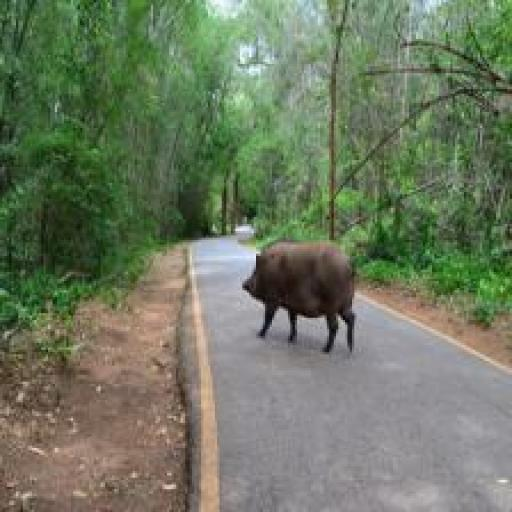Pig: (242, 231, 366, 358)
